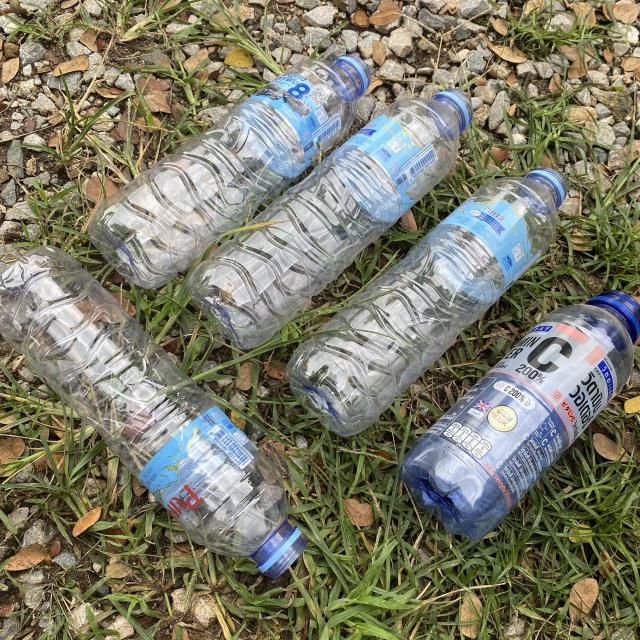plastik: (0, 247, 307, 577), (286, 168, 566, 436), (187, 90, 472, 348), (89, 56, 371, 288), (400, 290, 640, 540)
